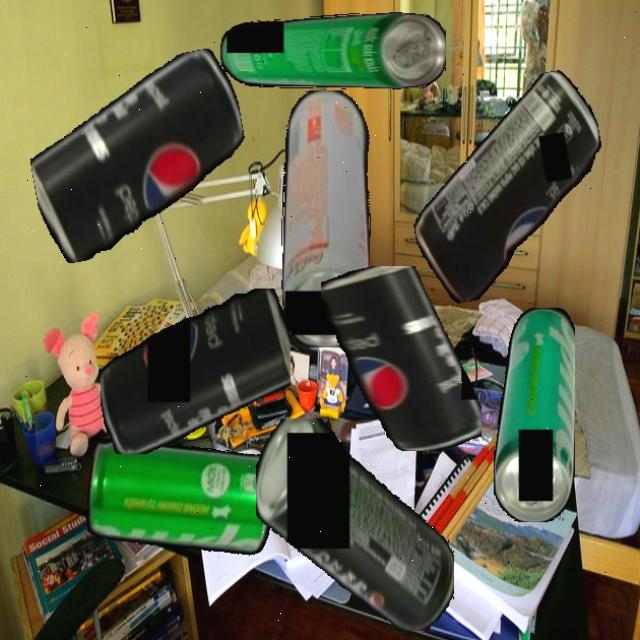debris: (392, 66, 624, 308), (17, 46, 260, 266), (255, 417, 454, 631), (100, 288, 290, 454), (320, 266, 482, 451), (80, 427, 282, 567), (280, 90, 371, 348), (219, 12, 446, 90), (493, 307, 575, 522)
